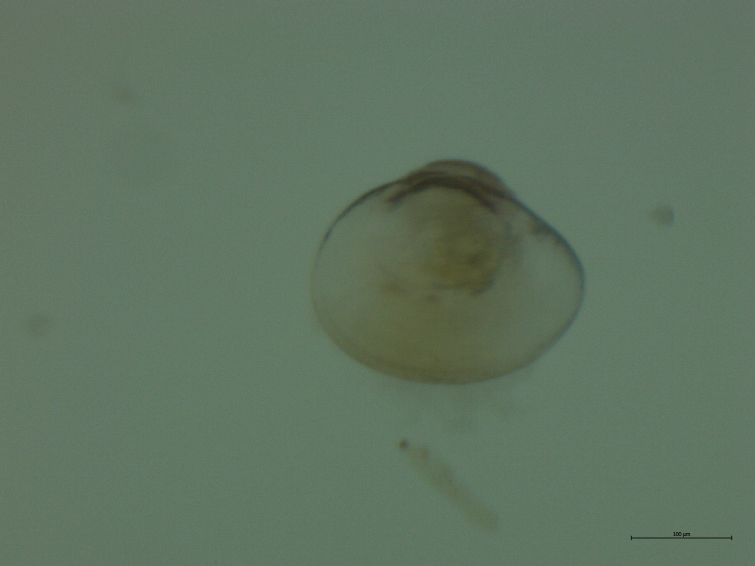oyster: (299, 144, 596, 394)
